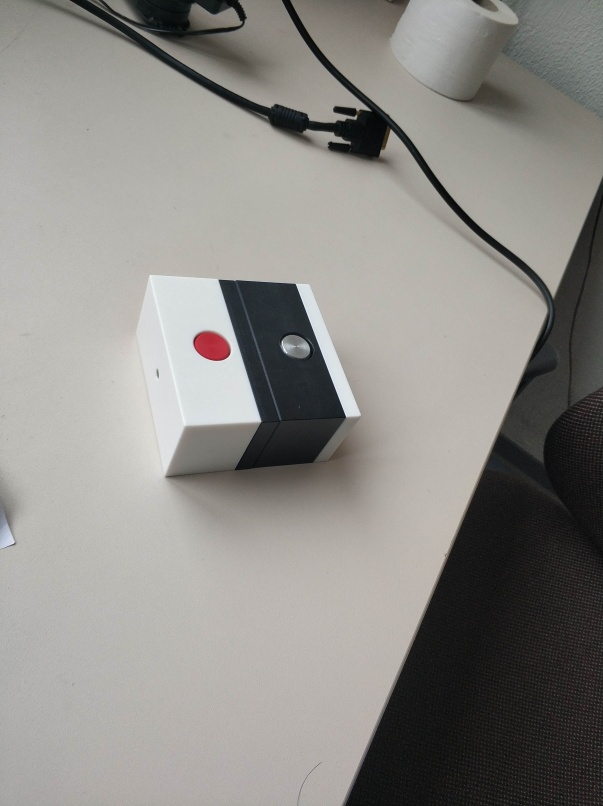black+white+red: (131, 275, 276, 482)
white+black+silver: (240, 279, 365, 471)
